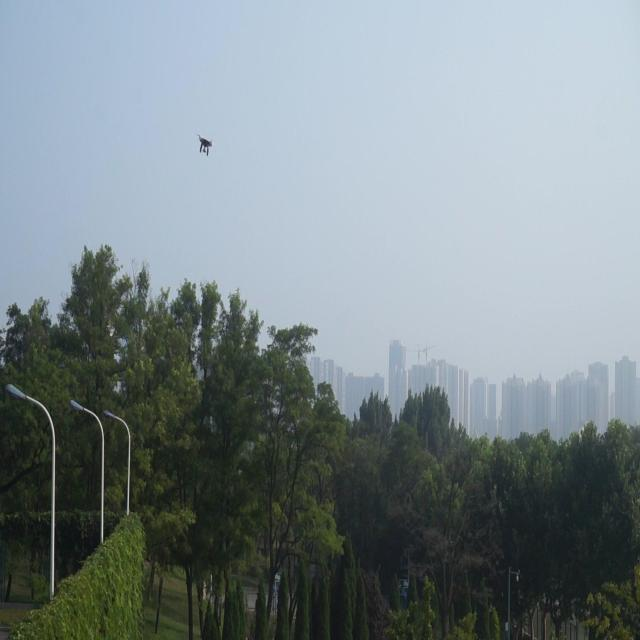drone: (195, 129, 214, 159)
